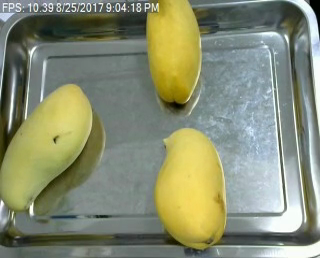Mango: (0, 82, 95, 215), (151, 125, 231, 252), (142, 1, 207, 104)
